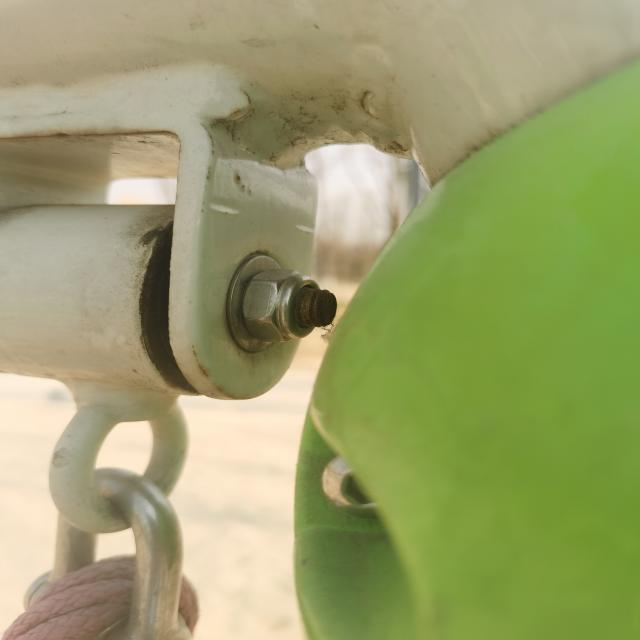bolt nut: (239, 268, 337, 344)
